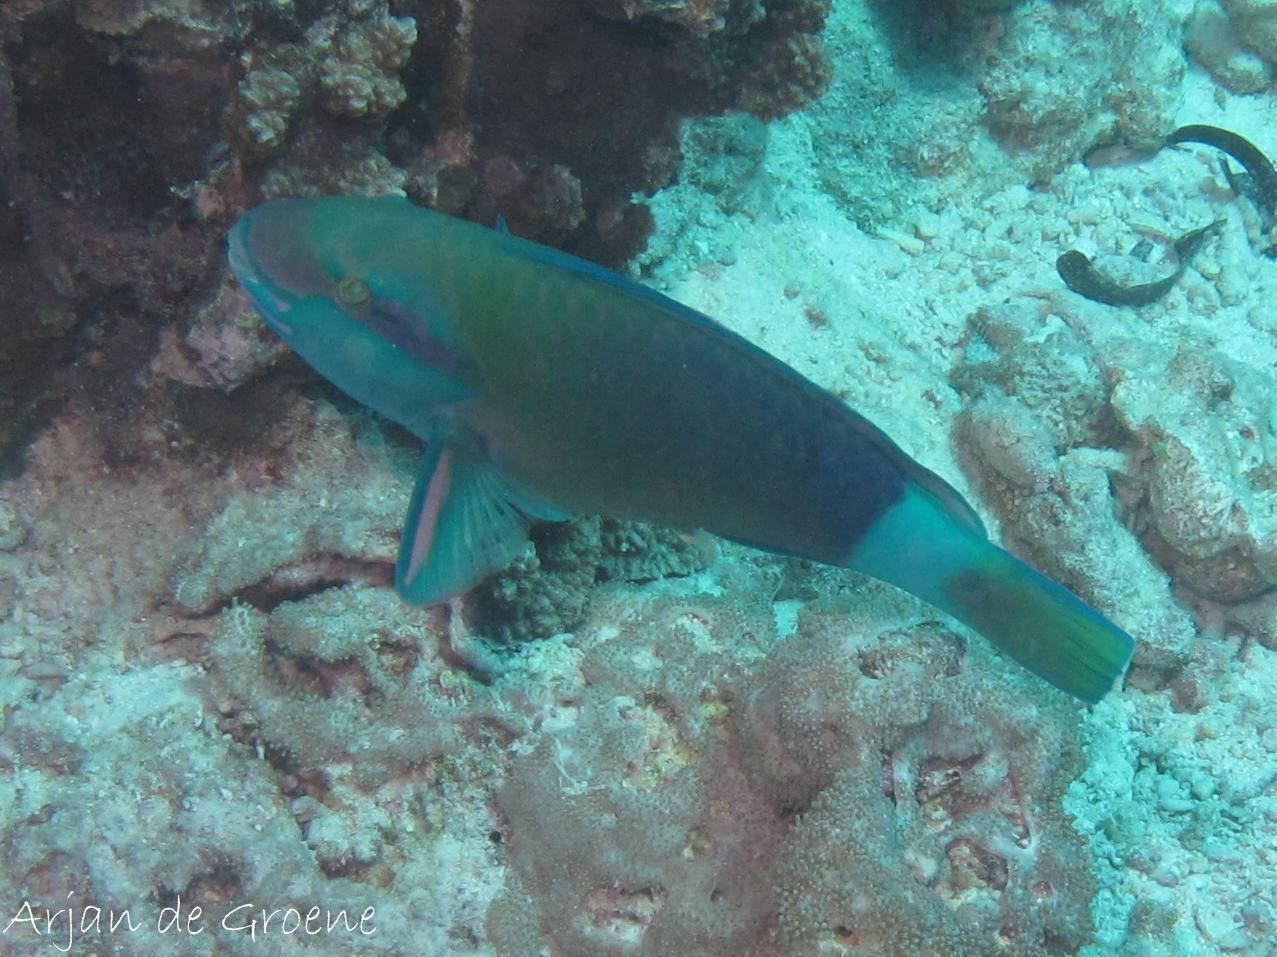Chlorurus sordidus: (181, 161, 1183, 783)
